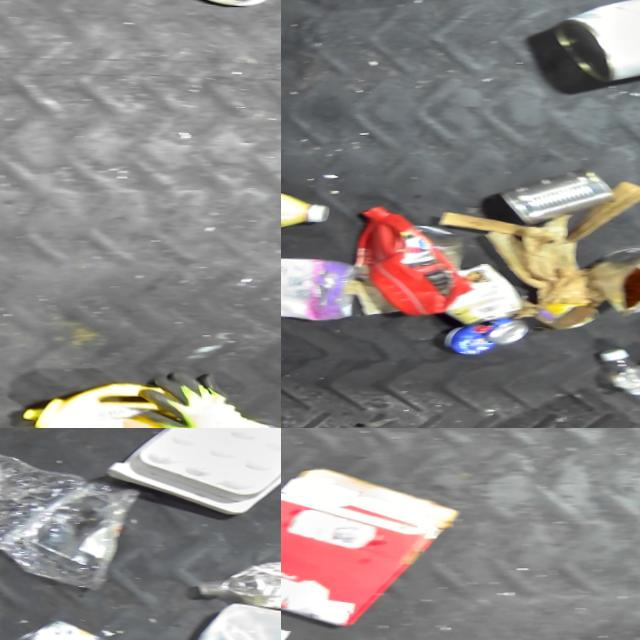can: (542, 0, 640, 93), (486, 166, 614, 231), (579, 246, 640, 319), (429, 315, 525, 360), (0, 615, 132, 640), (522, 302, 594, 335)
non_white_jug: (340, 203, 471, 321), (8, 380, 170, 428)
plastic_bottle: (181, 555, 281, 616), (584, 345, 640, 402)
